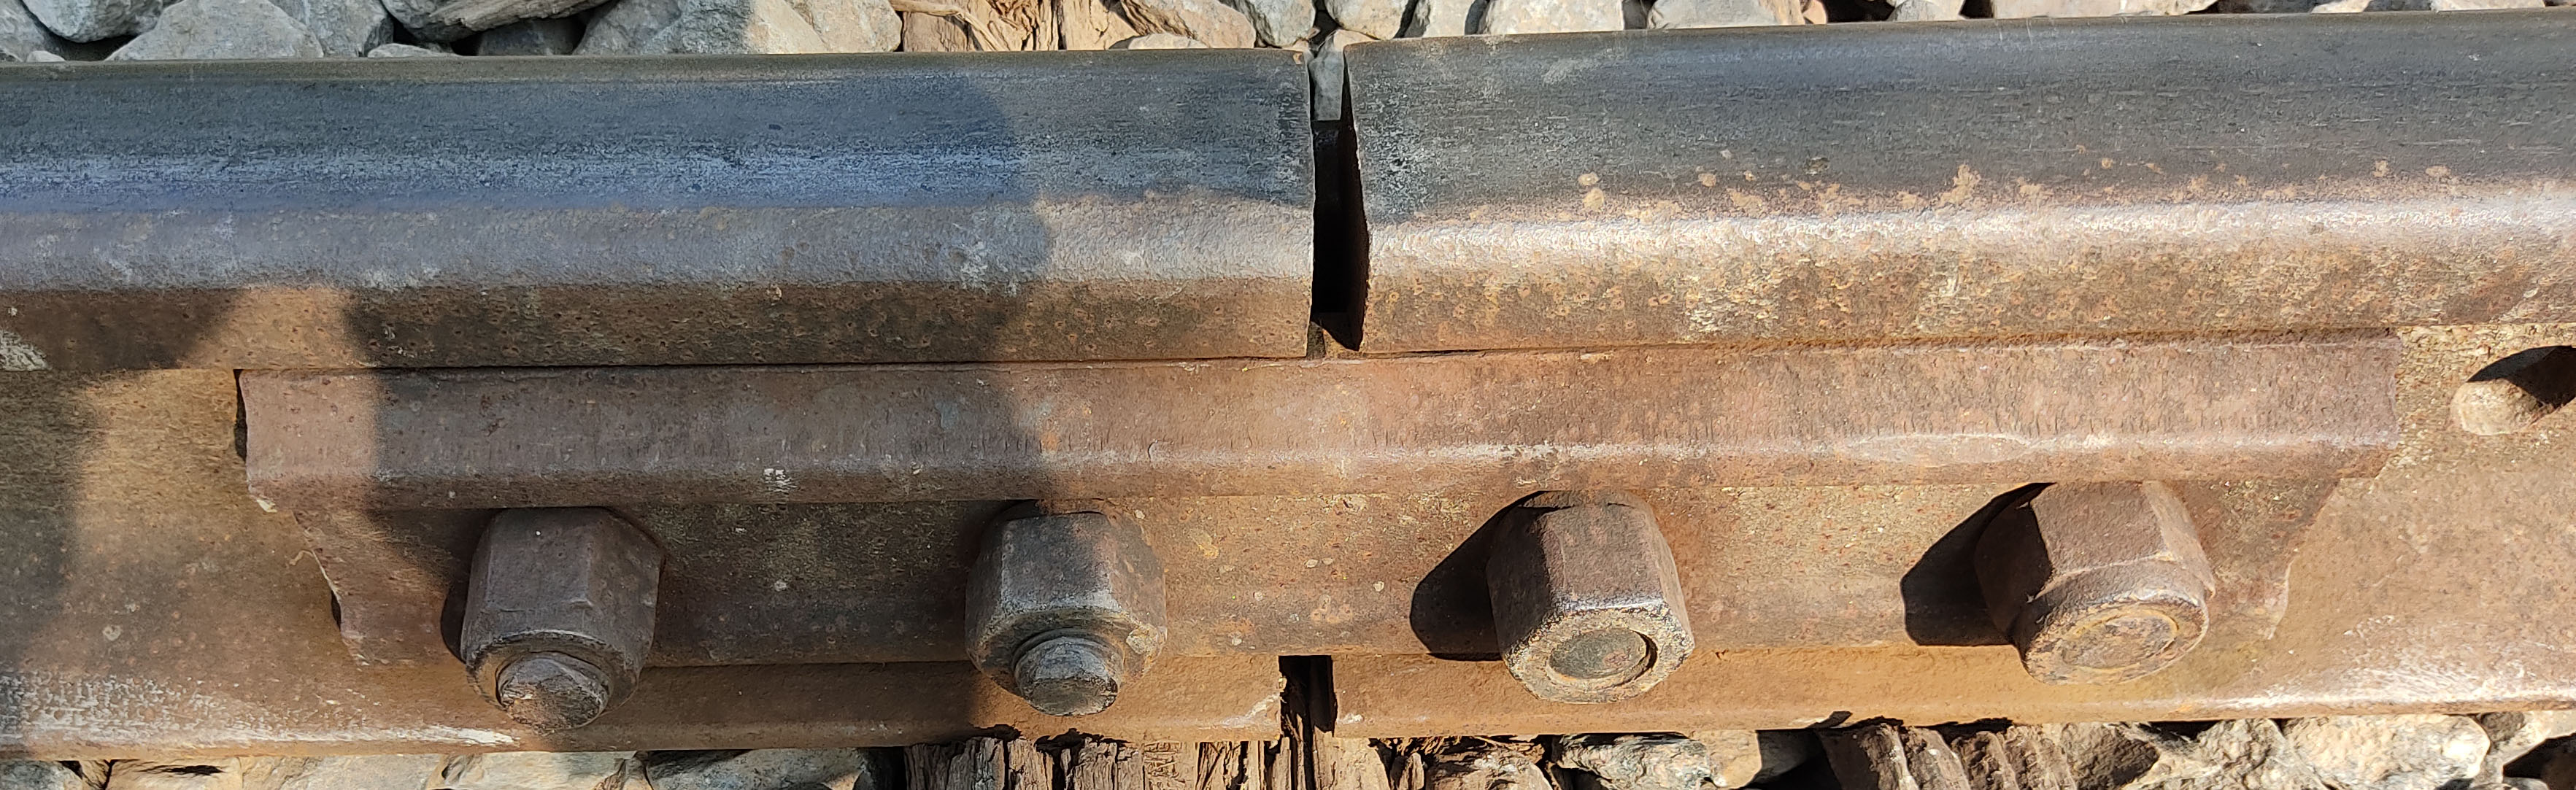error2: (1235, 23, 1393, 368)
